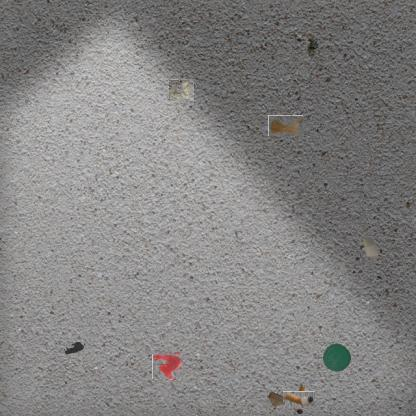dirty: (321, 342, 353, 374), (287, 387, 312, 412), (168, 79, 194, 101), (362, 236, 382, 262), (304, 32, 321, 60), (267, 389, 287, 409), (64, 341, 84, 355)
liquid: (154, 352, 182, 381), (268, 115, 303, 136)
